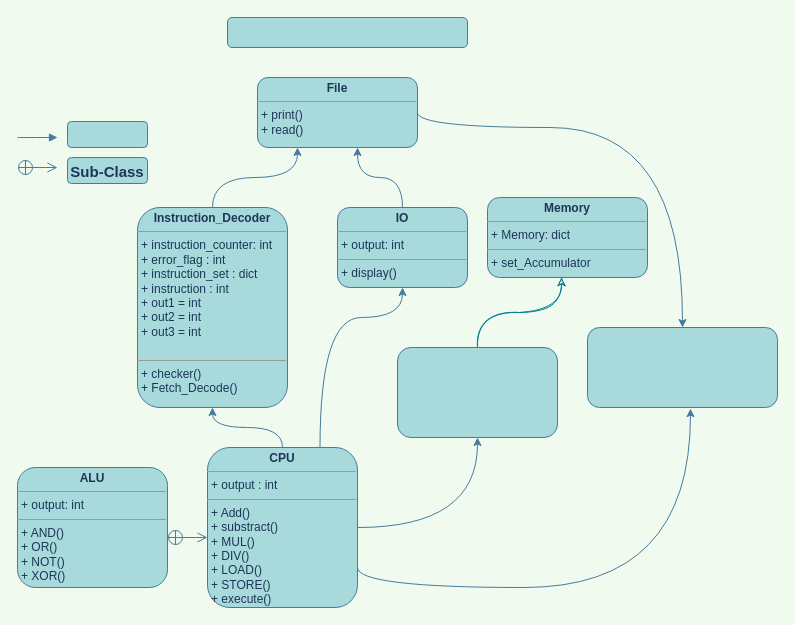
This 795x625 diagram has some shape labels left out. The centre of each missing label's shape, as x and y in pixels:
<<Interface>> RUN + RUN: (682,367)
COMM_BUSSES NONE + data_bus() + add_bus (): (477,392)
Inheritance: (107,134)
SoC UML DIAGRAM: (347,32)
